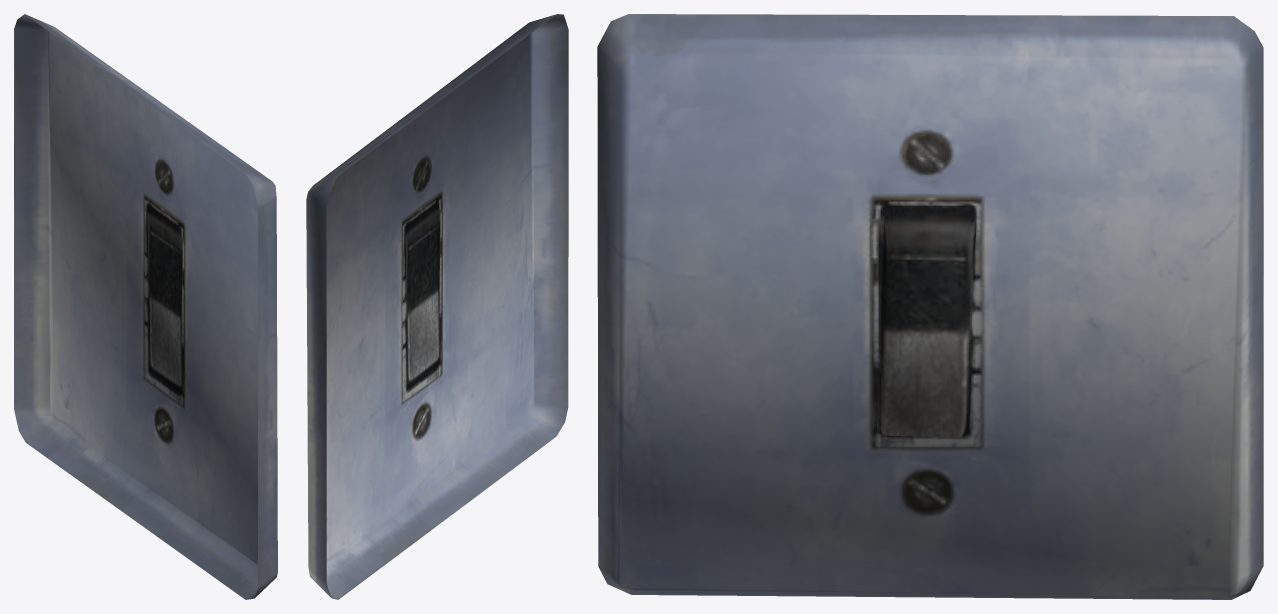
The model's file is Electrical_Switch_05.fbx.
The picture shows the model from 3 angles, left to right: view 1: azimuth 30°, elevation 25°; view 2: azimuth 150°, elevation 25°; view 3: azimuth 270°, elevation 25°; orthographic projection. The views are drawn at different scales.
Visible parts, largest first — view 1: Electrical_Switch_05; view 2: Electrical_Switch_05; view 3: Electrical_Switch_05.
Boxes of the visible parts, <box> form: Electrical_Switch_05: <box>14,14,277,599</box>; Electrical_Switch_05: <box>306,14,568,599</box>; Electrical_Switch_05: <box>597,14,1263,599</box>.
Bounding box in the file's own units: 1.63 × 12.68 × 12.31.
1 material, 1 textured.
